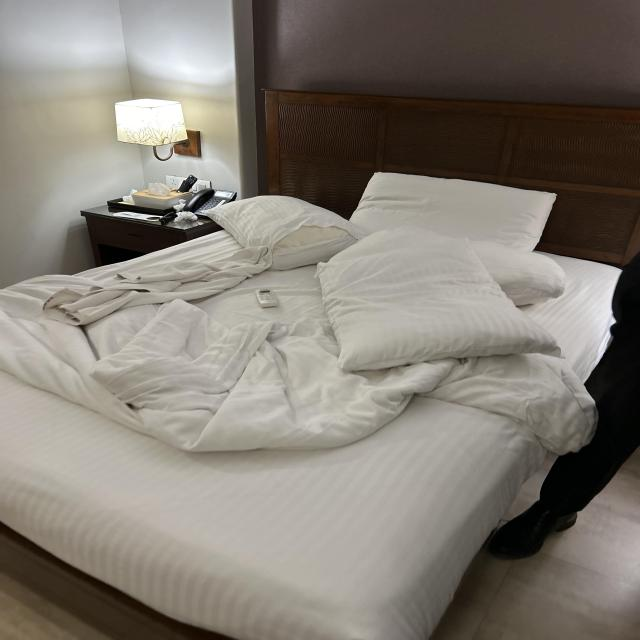mess: (0, 258, 640, 596), (243, 157, 589, 367), (85, 159, 244, 246)
